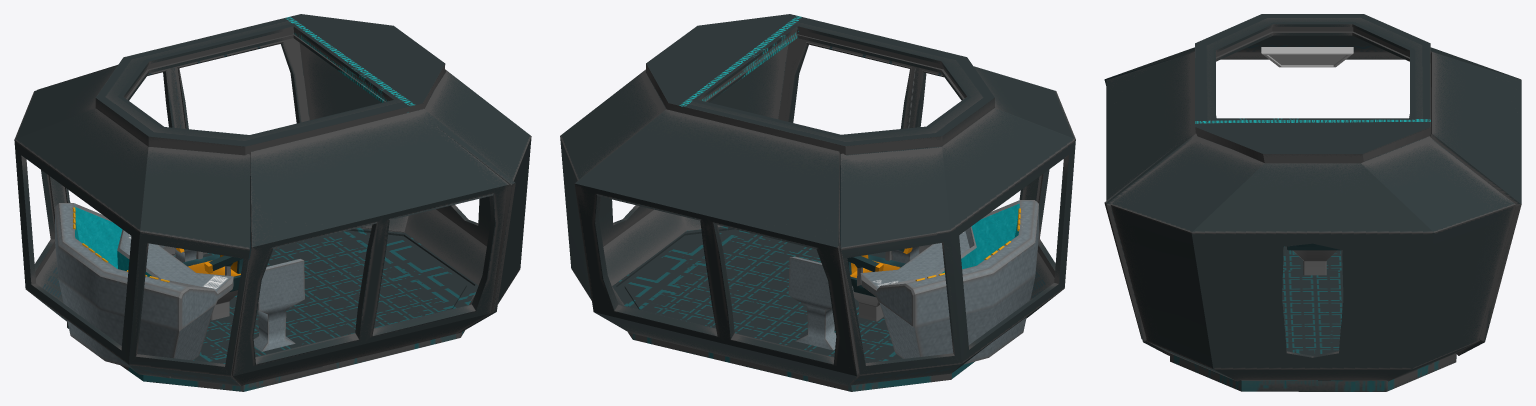
File: EXP_5_.fbx
3 views of the same model, side by side, from view 1: azimuth 30°, elevation 25°; view 2: azimuth 150°, elevation 25°; view 3: azimuth 270°, elevation 25° (orthographic). The views are drawn at different scales.
Parts seen in each view (by area): view 1: Cage2, Console2, Left_Console_Panel, Chair2; view 2: Cage2, Console2, Right_Console_Panel, Chair2; view 3: Cage2, pCube6, Chair2.
Boxes of the visible parts, box(x1,y1,x2,y2) form: Cage2: box(14, 14, 531, 391); Console2: box(55, 203, 233, 378); Left_Console_Panel: box(253, 259, 304, 351); Chair2: box(176, 248, 243, 320); Cage2: box(560, 14, 1075, 391); Console2: box(860, 200, 1038, 364); Right_Console_Panel: box(788, 256, 853, 350); Chair2: box(847, 247, 912, 321); Cage2: box(1104, 14, 1521, 391); pCube6: box(1261, 47, 1353, 67); Chair2: box(1287, 243, 1341, 275).
Bounding box in the file's own units: 4794 × 2719 × 4574.
